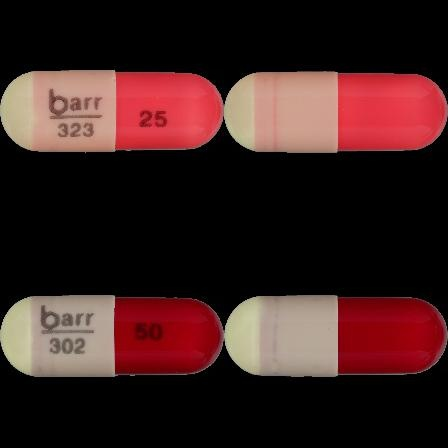53808-0373: (0, 0, 224, 224)
